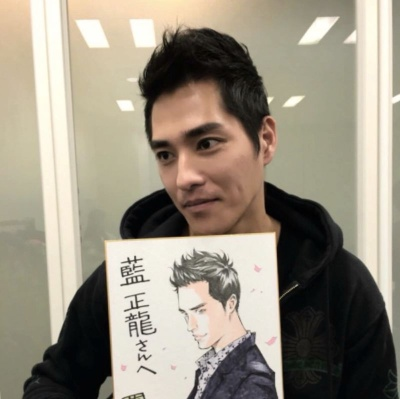male: (127, 24, 308, 247)
